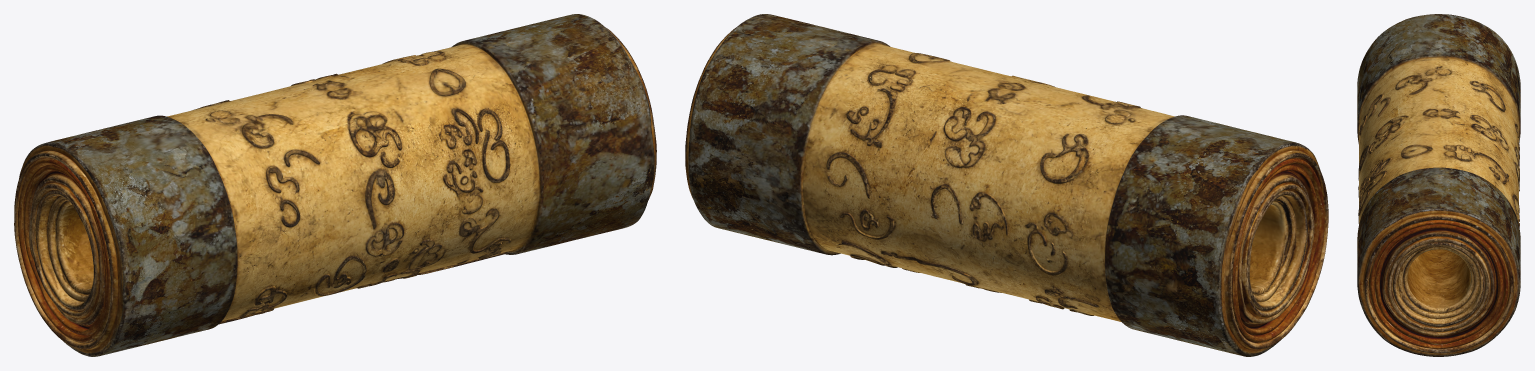
The model's file is e4phayanthd.glb.
3 renders of one model, left to right at view 1: azimuth 30°, elevation 25°; view 2: azimuth 150°, elevation 25°; view 3: azimuth 270°, elevation 25°, orthographic. The views are drawn at different scales.
Bounding box in the file's own units: 2.9 × 1 × 0.9967.
Materials: 1 (1 with a texture image).
